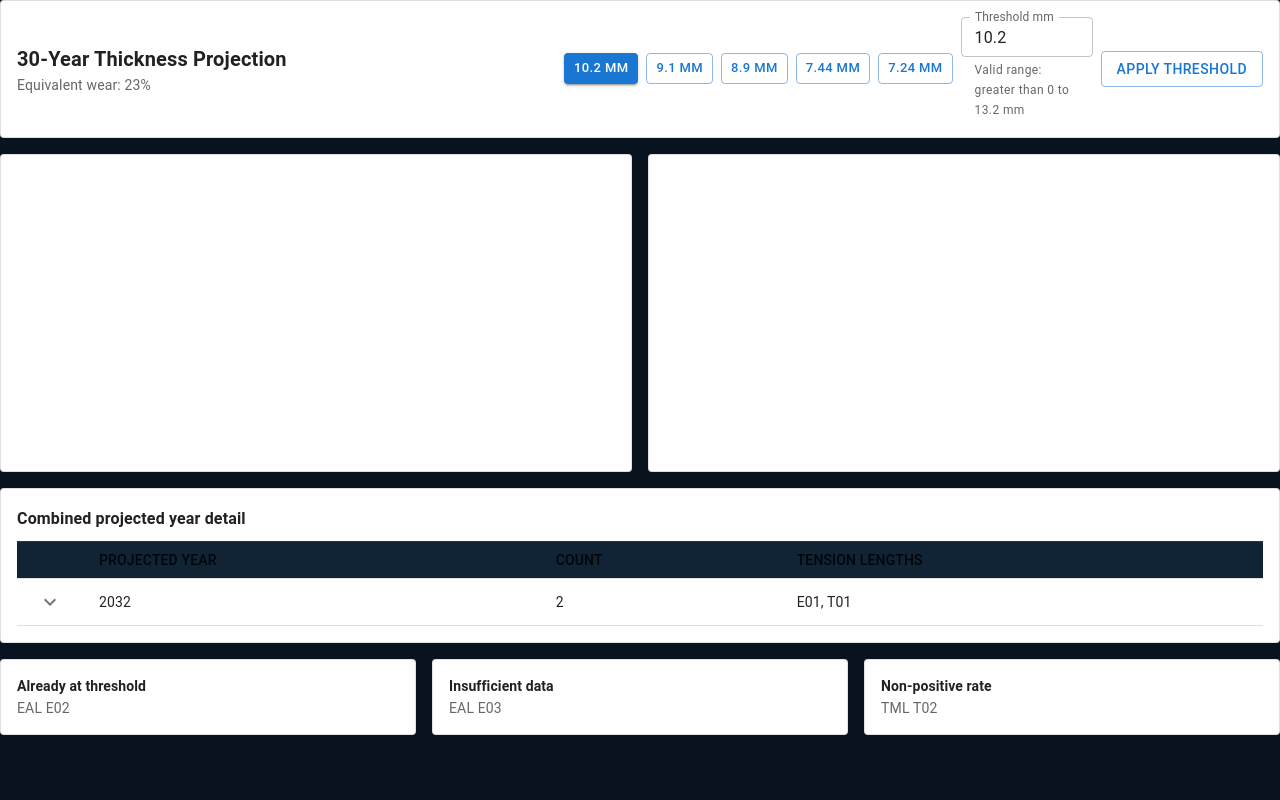
Scenario: WearProjectionPanel › rejects invalid custom threshold 0 without changing the active request
Replace the text in the number field labelled "Threshold mm" with "0" at (1027, 37), box [961,17,1093,57]
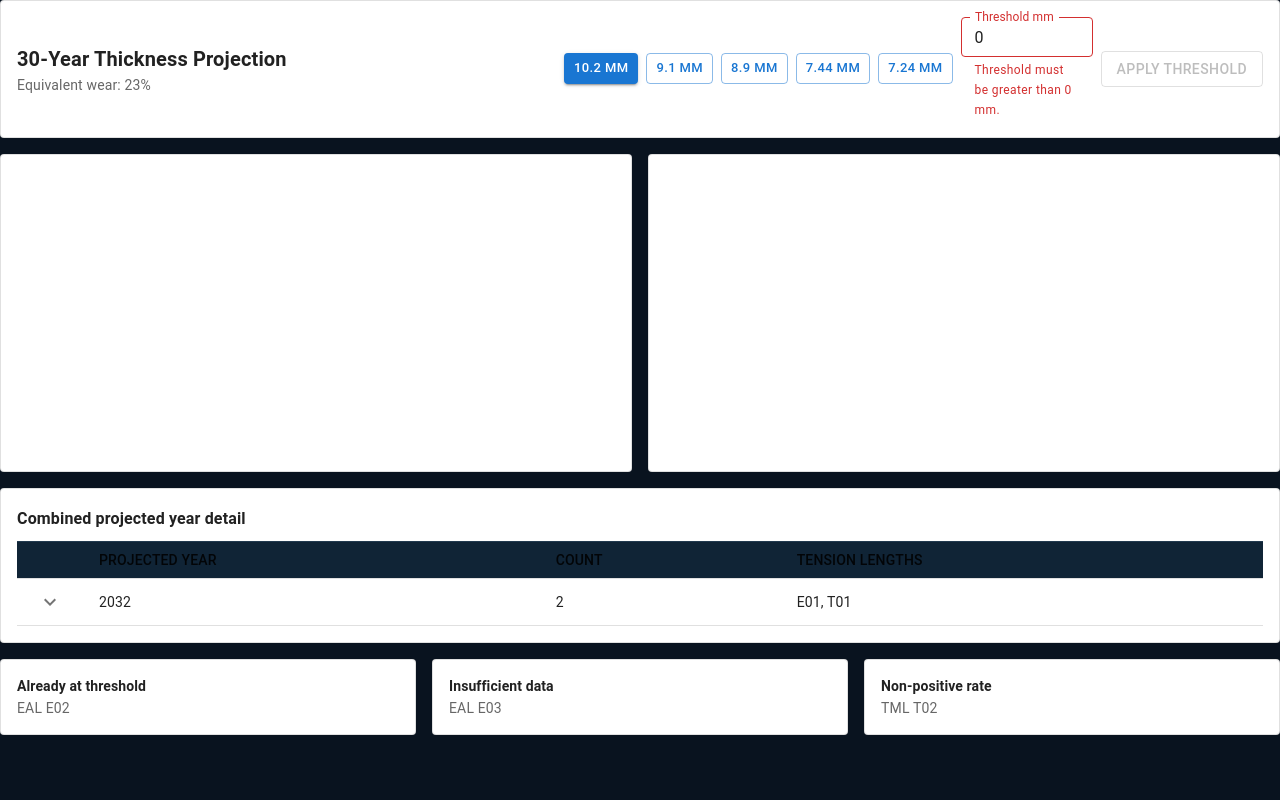
Expected: the text "Threshold must be greater than 0 mm." is shown, [975,61,1079,121]
Expected: the button "Apply threshold" is disabled, [1101,51,1263,87]
